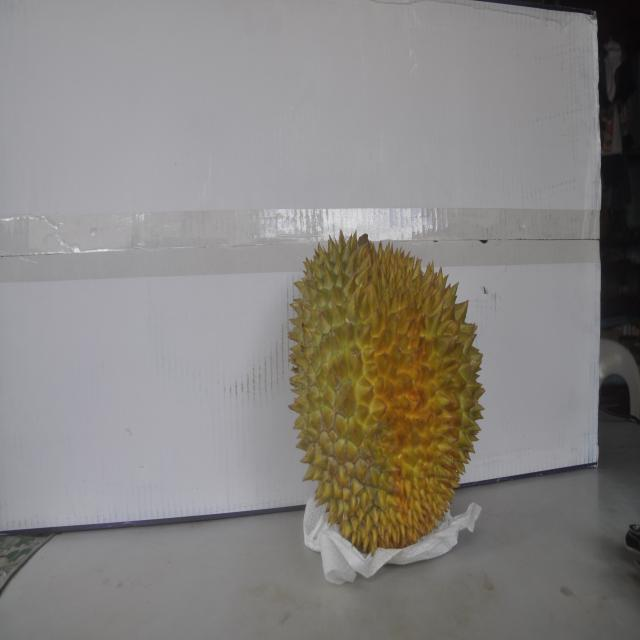mature: (290, 225, 480, 557)
